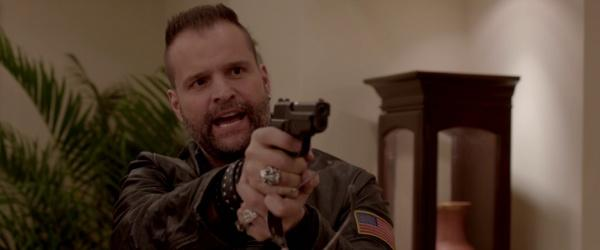Gun: (269, 98, 331, 158)
